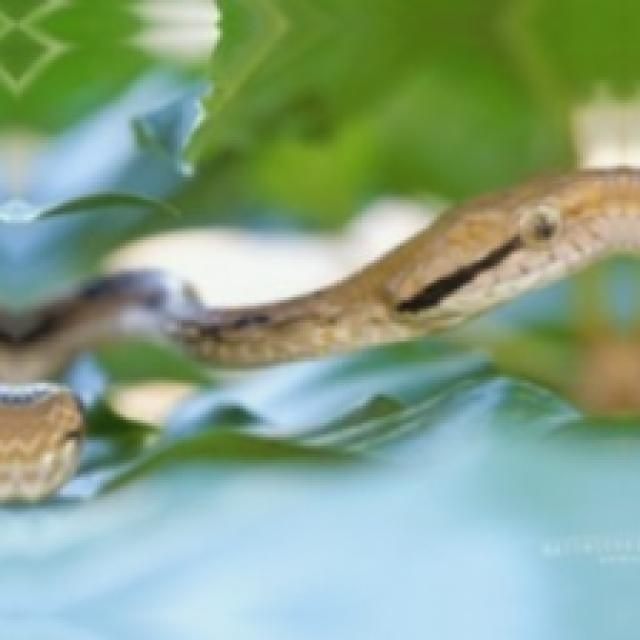dog-toothed cat snake: (174, 171, 637, 363), (0, 269, 203, 500)
